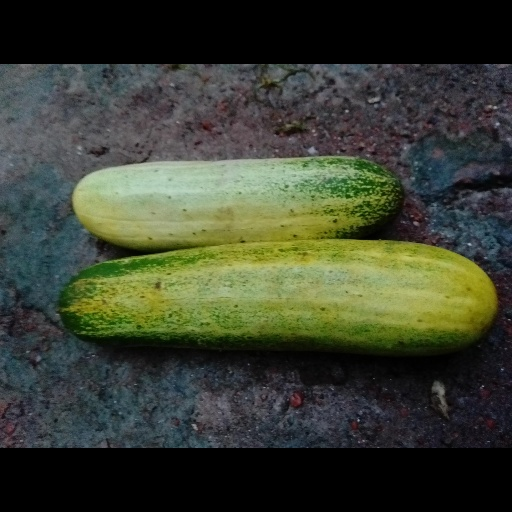concombre: (59, 239, 499, 359), (71, 155, 405, 254)
